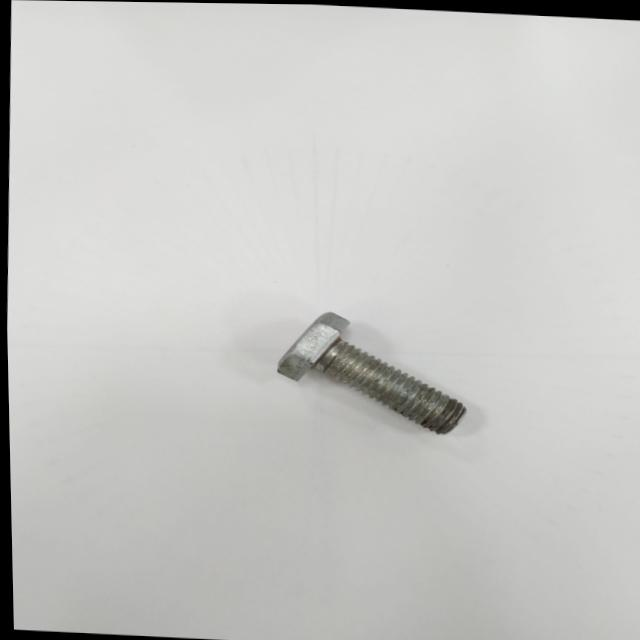Bolt: (275, 311, 461, 431)
